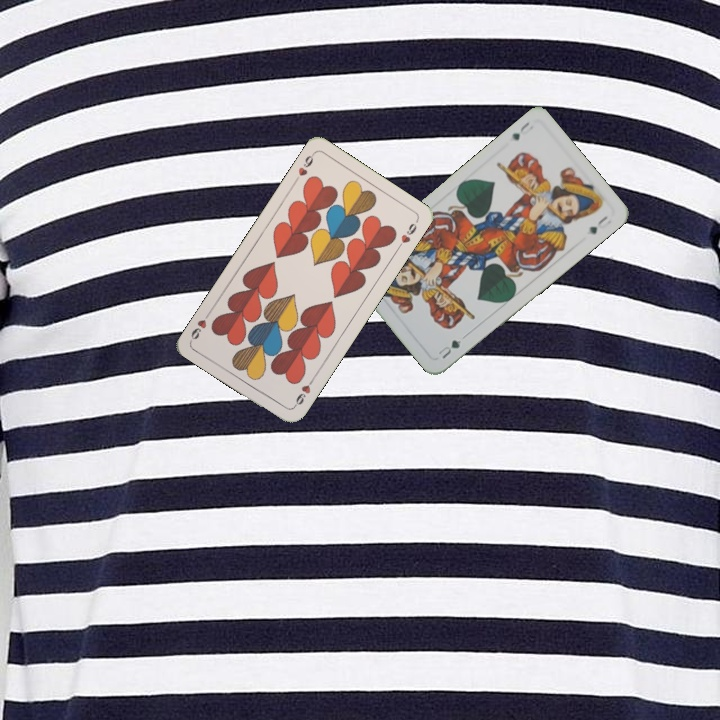GU: (434, 336, 464, 361), (508, 118, 536, 143)
H9: (289, 374, 317, 410), (290, 149, 317, 185)
